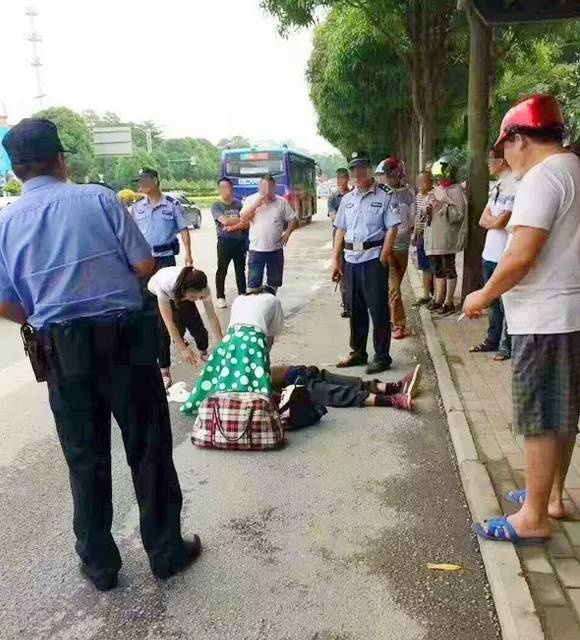falling: (194, 346, 437, 435)
